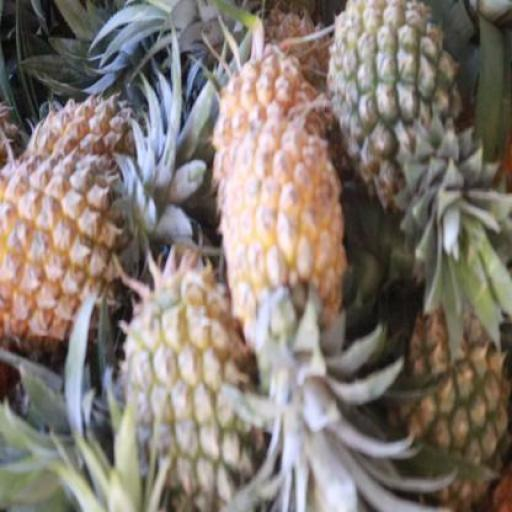------------------------------: (113, 256, 259, 506), (331, 0, 459, 198)
Pineapple - v8 v1: (224, 134, 338, 378), (0, 161, 121, 345)
